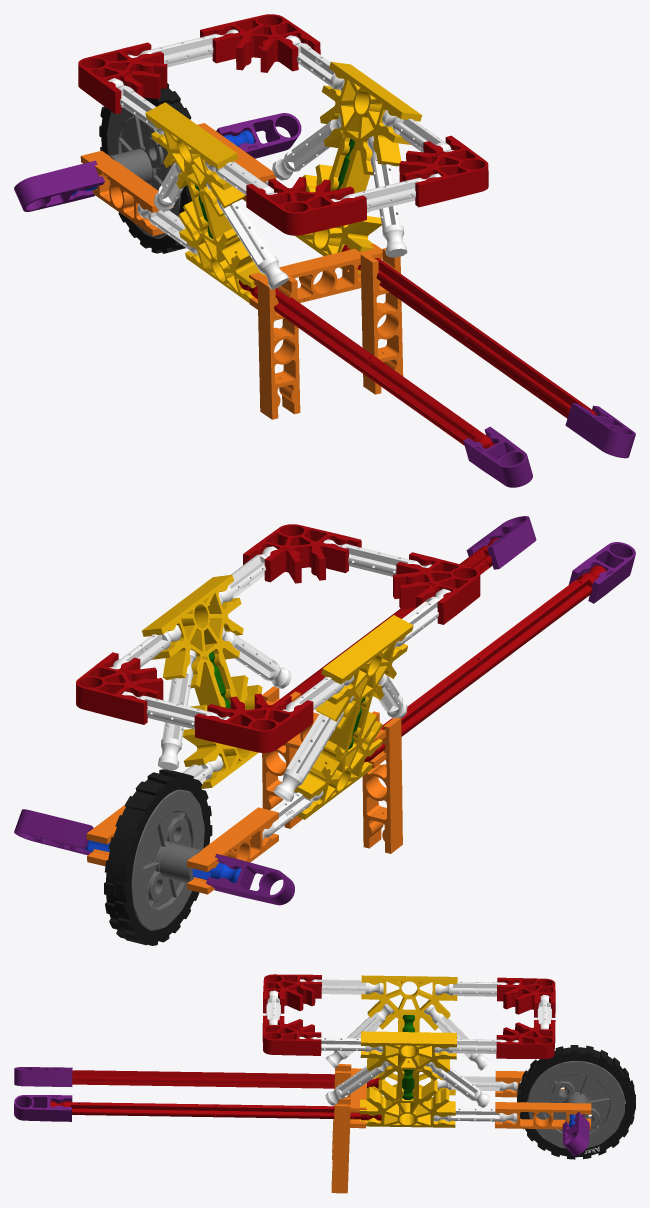
3 renders of one model, top to bottom at view 1: azimuth 30°, elevation 25°; view 2: azimuth 150°, elevation 25°; view 3: azimuth 270°, elevation 25°, orthographic. The views are drawn at different scales.
Parts seen in each view (by area): view 1: P1_L04.006; view 2: P1_L04.006; view 3: P1_L04.006.
Boxes of the visible parts, <box> form: P1_L04.006: <box>14,14,635,487</box>; P1_L04.006: <box>14,516,635,945</box>; P1_L04.006: <box>14,974,635,1193</box>.
Bounding box in the file's own units: 0.7494 × 0.66 × 2.2.
